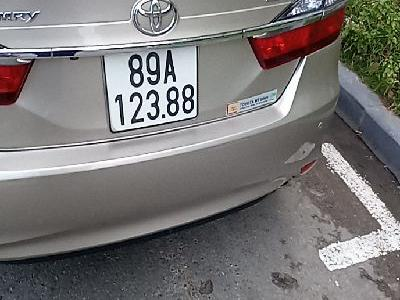car: (101, 45, 200, 133)
